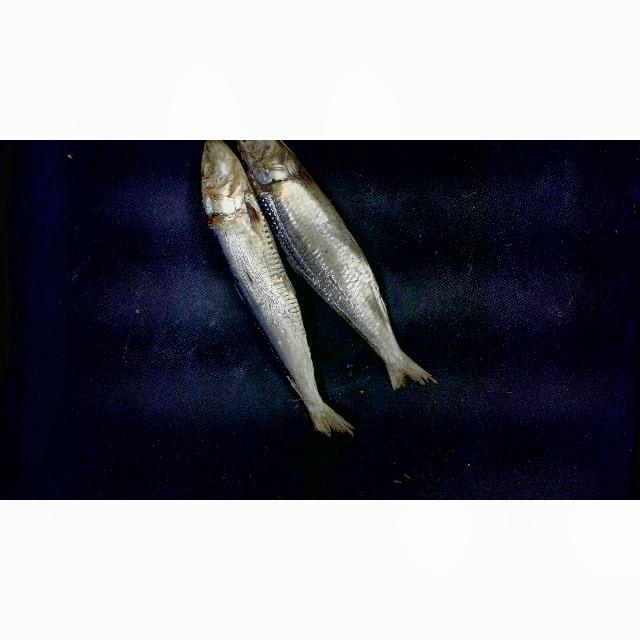Grade_A_Body: (256, 181, 396, 307), (205, 226, 321, 369)
Grade_A_Head: (179, 145, 266, 218), (223, 140, 327, 182)
Grade_A_Tail: (330, 288, 463, 391), (260, 358, 373, 449)
